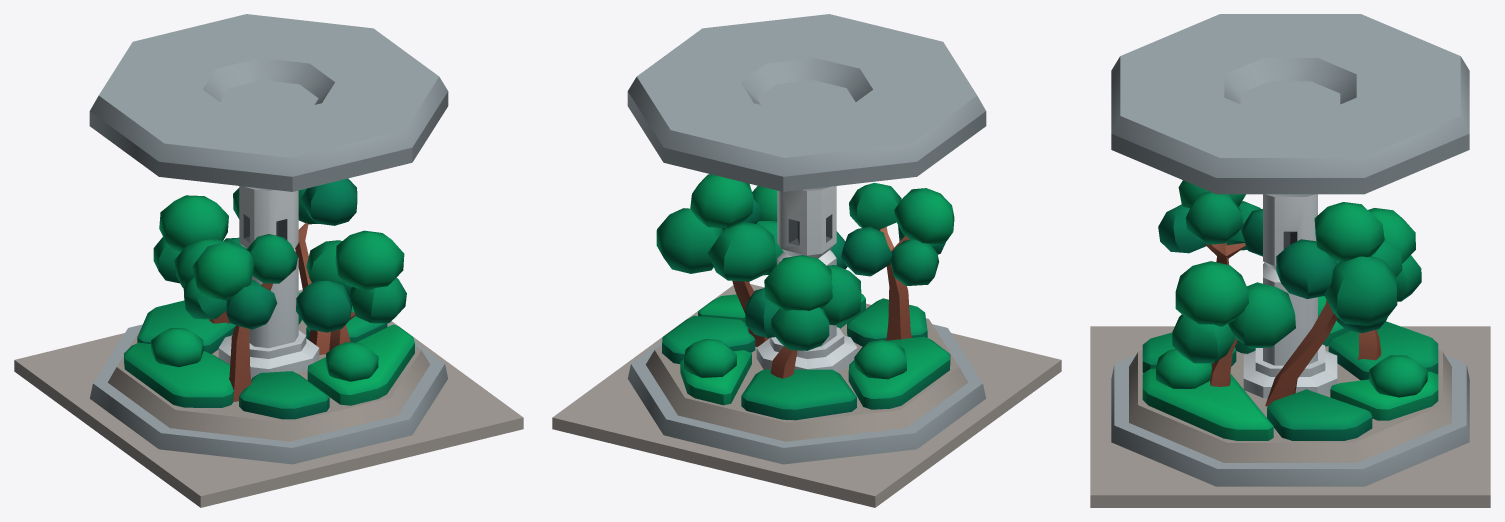
The model's file is space_farm_large.glb.
The picture shows the model from 3 angles, left to right: view 1: azimuth 30°, elevation 25°; view 2: azimuth 150°, elevation 25°; view 3: azimuth 270°, elevation 25°; orthographic projection. The views are drawn at different scales.
Visible parts, largest first — view 1: Spacefarm_Large; view 2: Spacefarm_Large; view 3: Spacefarm_Large.
Part boxes in pixels (x1,y1,x2,y2): Spacefarm_Large: (14, 14, 523, 507); Spacefarm_Large: (552, 14, 1061, 507); Spacefarm_Large: (1090, 14, 1490, 507).
Bounding box in the file's own units: 0.29 × 0.2699 × 0.29.
Materials: 1 (1 with a texture image).
